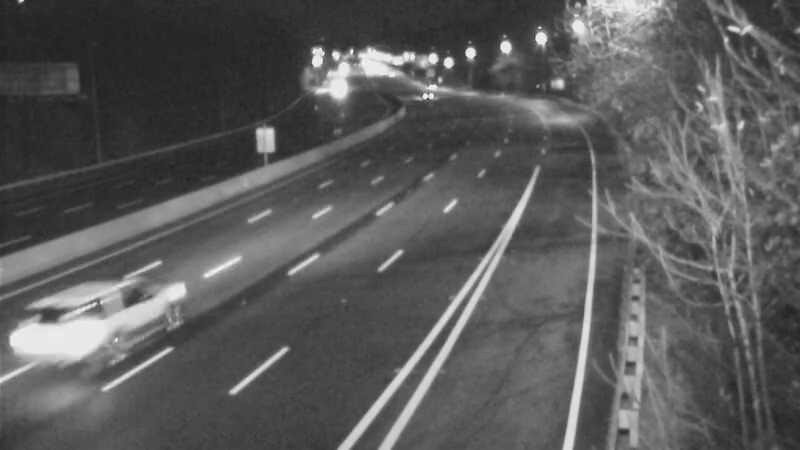vehicle: (2, 280, 112, 390), (406, 73, 456, 123), (315, 62, 365, 112)
